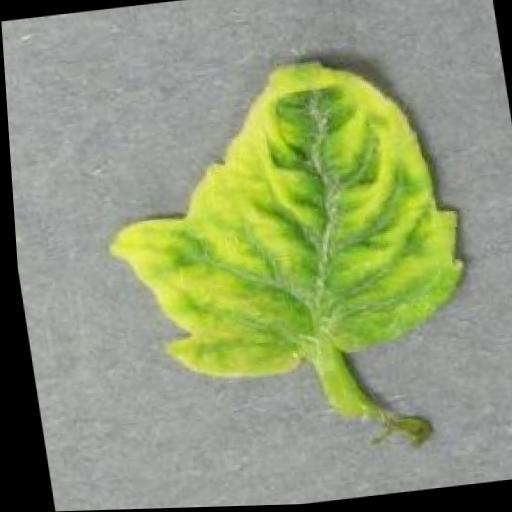Yellow Leaf Curl Virus: (82, 43, 475, 395)
